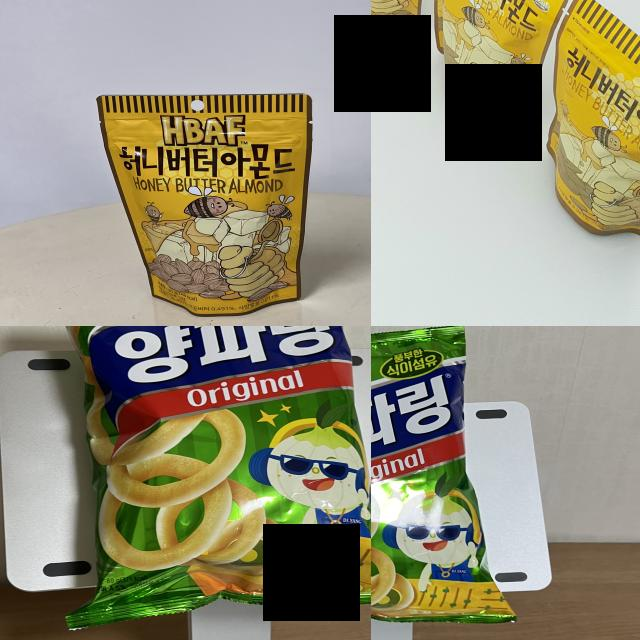honeyAmond: (106, 92, 314, 314), (564, 29, 640, 223), (433, 0, 544, 105)
onionRing: (66, 326, 354, 603), (371, 346, 463, 611)
